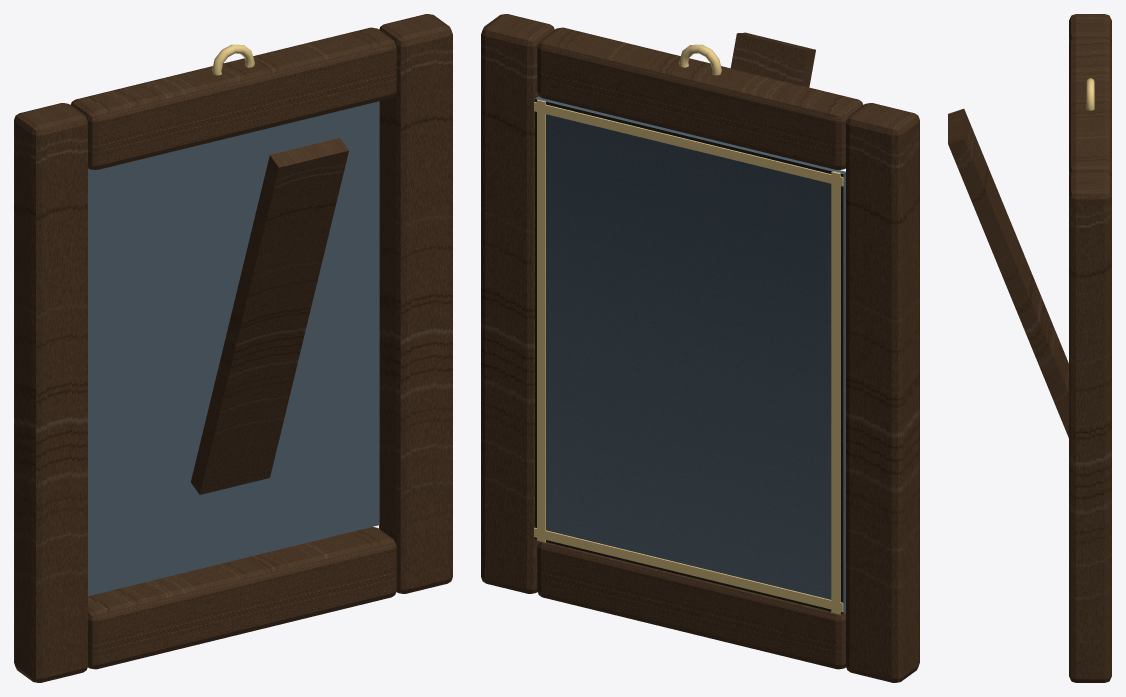
Rendered from khung-anh-tho.glb.
3 renders of one model, left to right at view 1: azimuth 30°, elevation 25°; view 2: azimuth 150°, elevation 25°; view 3: azimuth 270°, elevation 25°, orthographic. The views are drawn at different scales.
Parts seen in each view (by area): view 1: thanh-doc; view 2: thanh-doc; view 3: thanh-doc.
Boxes of the visible parts, x1,y1,x2,y2 form: thanh-doc: (14,14,452,682); thanh-doc: (481,14,919,682); thanh-doc: (948,14,1111,682).
Bounding box in the file's own units: 0.3 × 0.397 × 0.1145.
3 materials, 2 textured.
